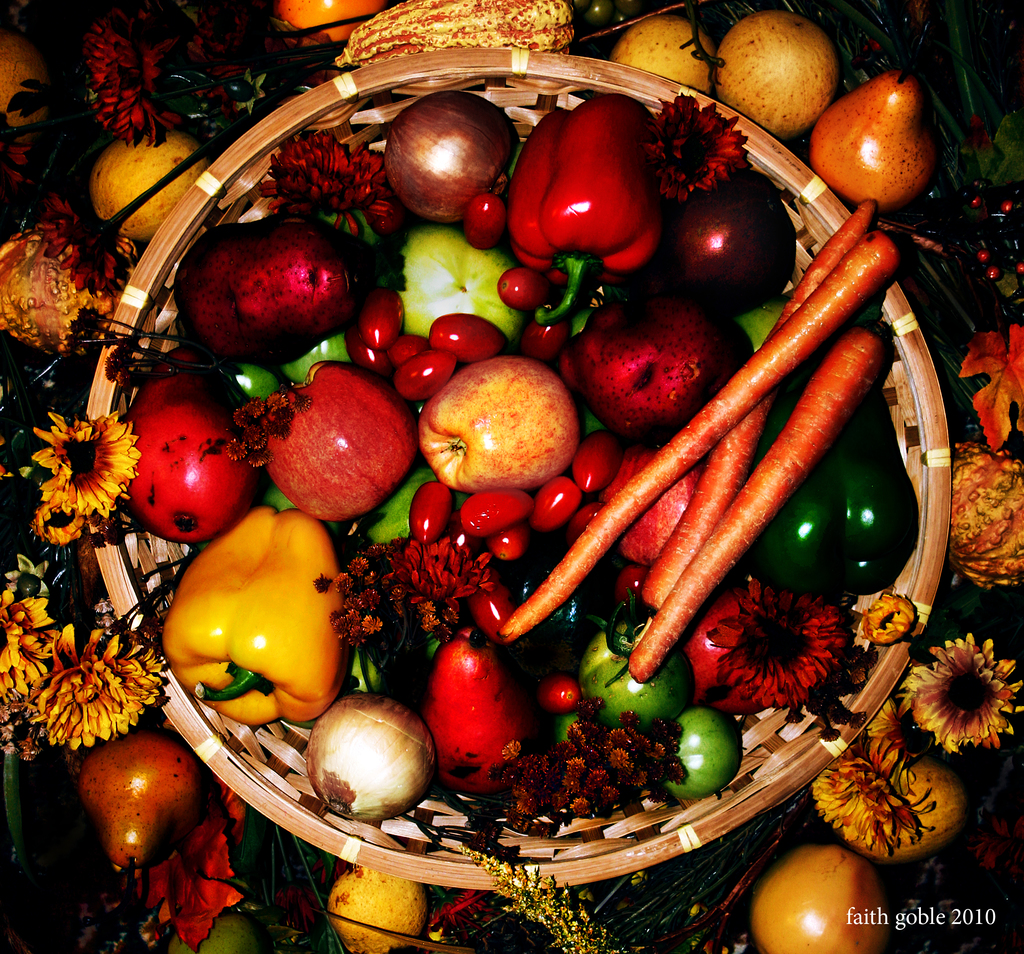Apple: (263, 365, 413, 517), (416, 359, 577, 493)
